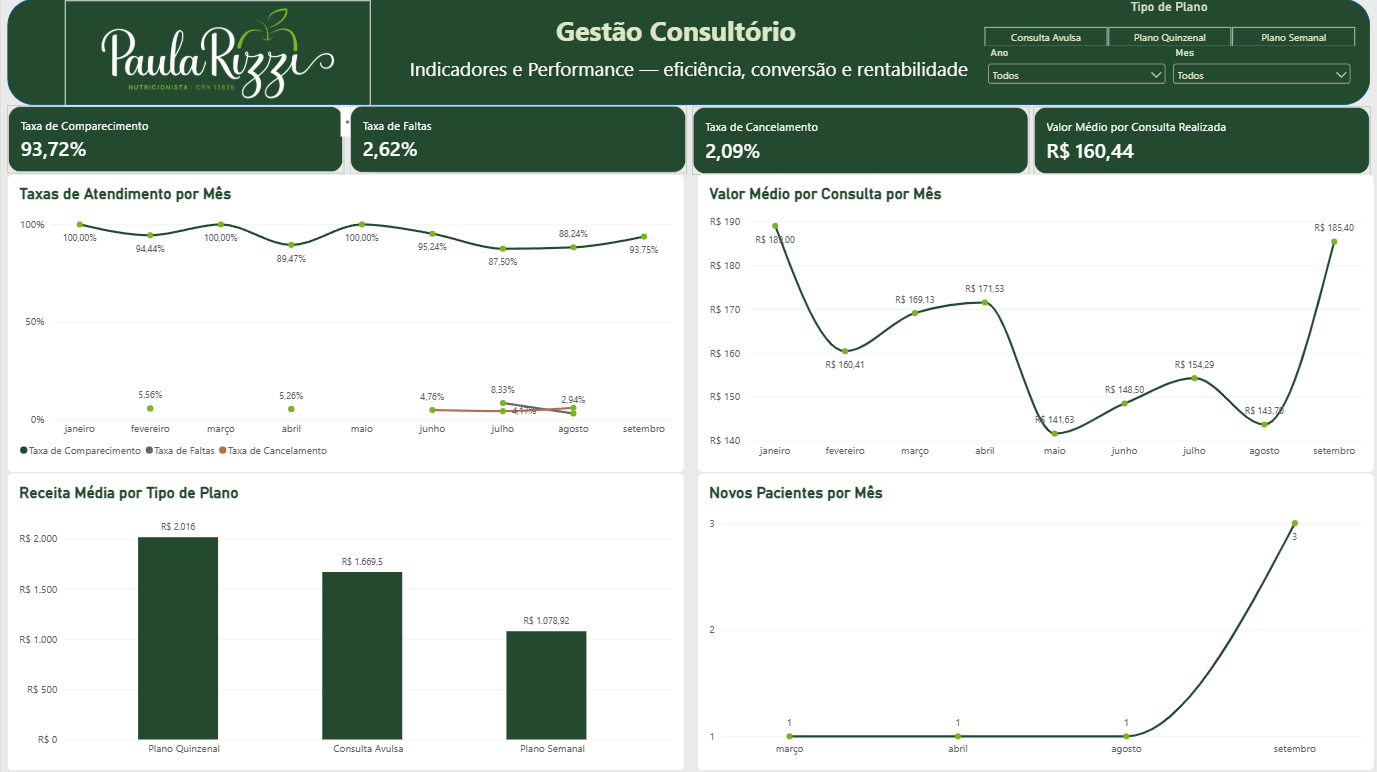

This screenshot's page, from the dashboard's own definition file:
{"tool":"powerbi","page":{"name":"Indicadores e Performance","canvas":[1920,1080],"ordinal":4},"visuals":[{"type":"shape","box":[9.4,0,1901.9,148.1],"z":0},{"type":"cardVisual","fields":{"Data":["Medidas.Taxa de Comparecimento"]},"box":[8.7,149,470,95],"z":1000},{"type":"image","box":[88.9,1.6,427.1,148.1],"z":2000},{"type":"cardVisual","fields":{"Data":["Medidas.Taxa de Faltas"]},"box":[486.3,149,470,95],"z":3000},{"type":"textbox","box":[774.8,18.7,347.9,51.5],"z":4000},{"type":"cardVisual","fields":{"Data":["Medidas.Taxa de Cancelamento"]},"box":[963.8,149.4,470,95],"z":5000},{"type":"textbox","box":[547.1,78.9,824.3,60.6],"z":6000},{"type":"cardVisual","fields":{"Data":["Medidas.Valor Médio por Consulta Realizada"]},"box":[1441.3,149.4,470,95],"z":7000},{"type":"slicer","title":"Ano","fields":{"Values":["Calendario.Ano"]},"box":[1373.4,65.5,257,73.3],"z":8000},{"type":"slicer","fields":{"Values":["Calendario.Mes"]},"box":[1630.6,65.5,257,73.3],"z":9000},{"type":"slicer","title":"Tipo de Plano","fields":{"Values":["Planos_Contratos.Tipo_Plano"]},"box":[1351.6,0,556.5,65.5],"z":10000},{"type":"lineChart","title":"Taxas de Atendimento por Mês","fields":{"Category":["Calendario.Mes"],"Y":["Medidas.Taxa de Comparecimento","Medidas.Taxa de Faltas","Medidas.Taxa de Cancelamento"]},"box":[9.2,244.2,945,417],"z":10001},{"type":"lineChart","title":"Valor Médio por Consulta por Mês","fields":{"Category":["Calendario.Mes"],"Y":["Medidas.Valor Médio por Consulta Realizada"]},"box":[971.2,244.2,945,417],"z":10002},{"type":"clusteredColumnChart","title":"Receita Média por Tipo de Plano","fields":{"Category":["Planos_Contratos.Tipo_Plano"],"Y":["Medidas.Receita Média por Plano"]},"box":[9.2,660.9,945,417],"z":10003},{"type":"lineChart","title":"Novos Pacientes por Mês","fields":{"Category":["Calendario.Mes"],"Y":["Medidas.Novos Pacientes por Mês"]},"box":[971.2,660.9,945,416.8],"z":10004}]}

Visuals, with their boxes in screenshot pixels (x1, y1, x2, y2), scaled from the page's 1920x1080 canvas onto the 1377x772 screenshot:
shape: [7,0,1371,106]
cardVisual - Medidas.Taxa de Comparecimento: [6,107,343,174]
image: [64,1,370,107]
cardVisual - Medidas.Taxa de Faltas: [349,107,686,174]
textbox: [556,13,805,50]
cardVisual - Medidas.Taxa de Cancelamento: [691,107,1028,175]
textbox: [392,56,984,100]
cardVisual - Medidas.Valor Médio por Consulta Realizada: [1034,107,1371,175]
"Ano" slicer: [985,47,1169,99]
slicer - Calendario.Mes: [1169,47,1354,99]
"Tipo de Plano" slicer: [969,0,1368,47]
"Taxas de Atendimento por Mês" lineChart: [7,175,684,473]
"Valor Médio por Consulta por Mês" lineChart: [697,175,1374,473]
"Receita Média por Tipo de Plano" clusteredColumnChart: [7,472,684,770]
"Novos Pacientes por Mês" lineChart: [697,472,1374,770]
